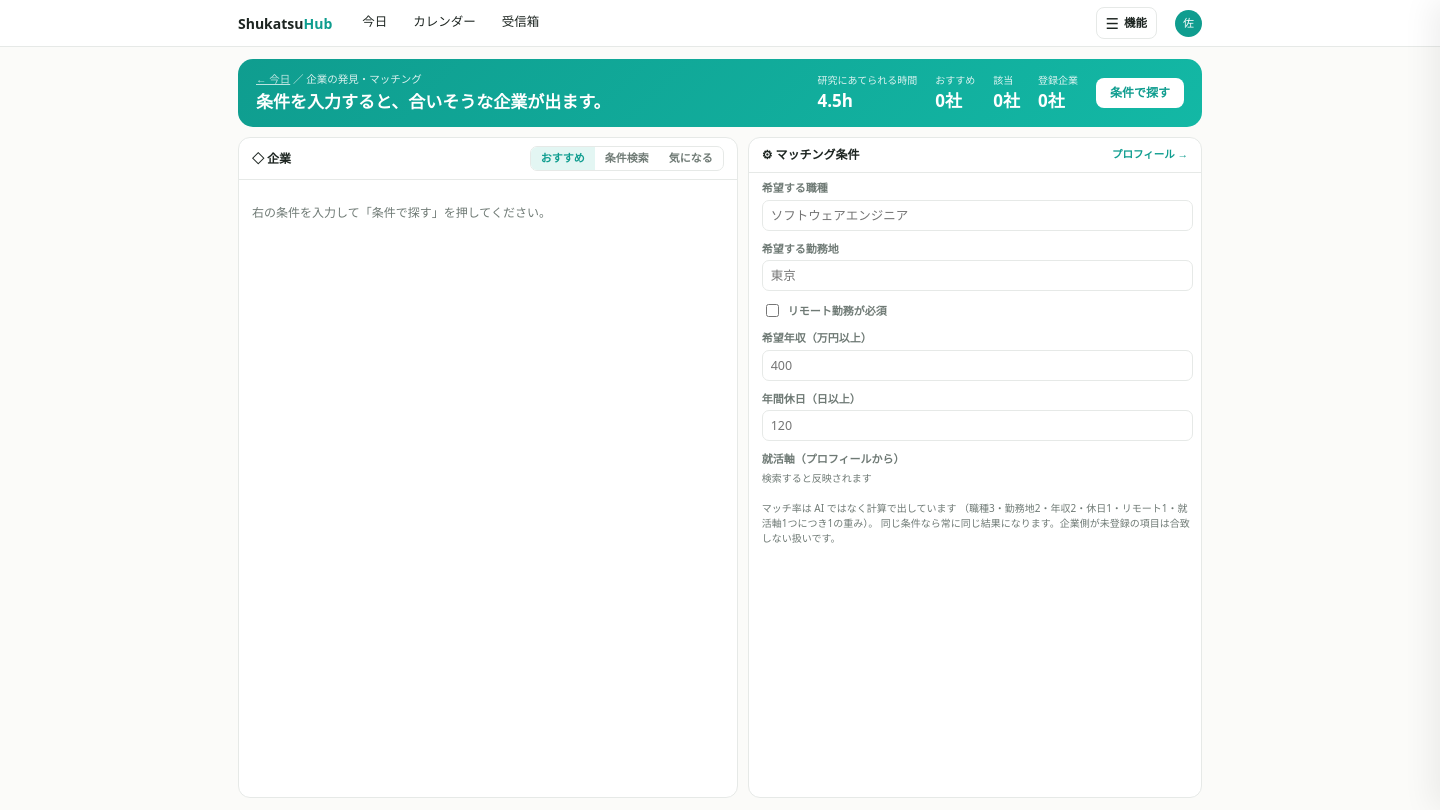
Scenario: 気になるに追加 › 追加すると「登録済み」に変わり、ボタンが消える
This screenshot has width=1440, height=810.
Click the button "条件で探す".
click(1140, 93)  # box [1096,78,1184,108]
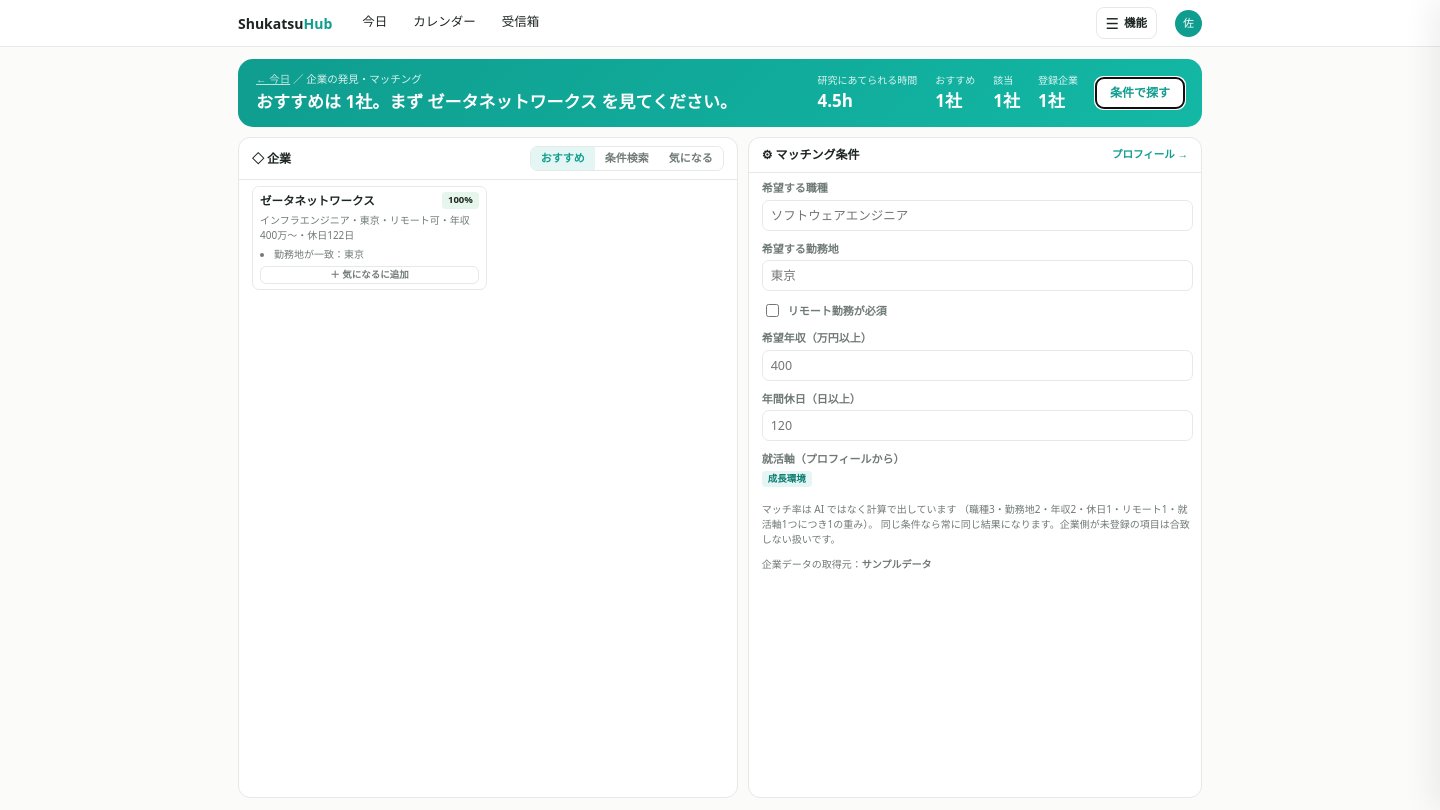
Click the button "＋ 気になるに追加".
click(369, 275)  # box [260,266,479,284]
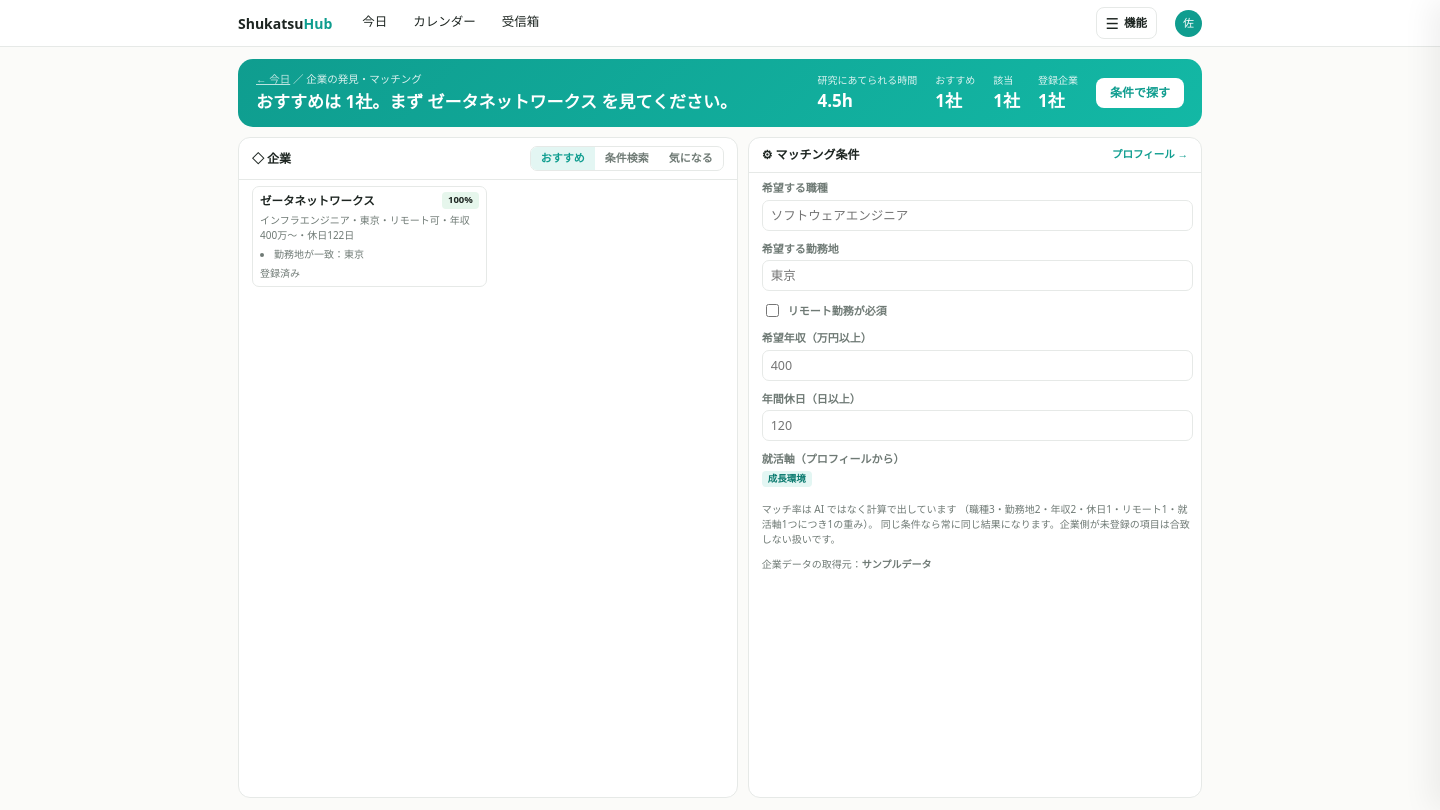
Expected: the text "登録済み" is shown, [260,266,300,280]
Expected: the button "＋ 気になるに追加" is gone
